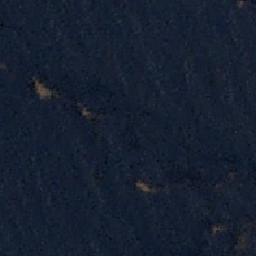debris: (31, 79, 55, 100), (233, 230, 251, 255), (134, 179, 152, 194), (76, 103, 92, 118), (212, 223, 227, 231)
